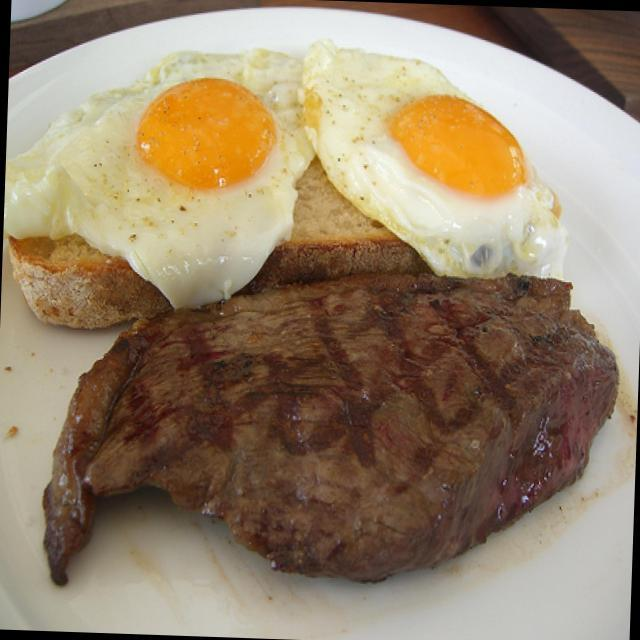Beef Steak: (20, 255, 622, 618)
Egg: (22, 30, 311, 291), (295, 34, 573, 268)
